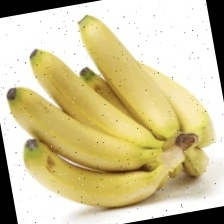banana: (14, 2, 215, 179)
